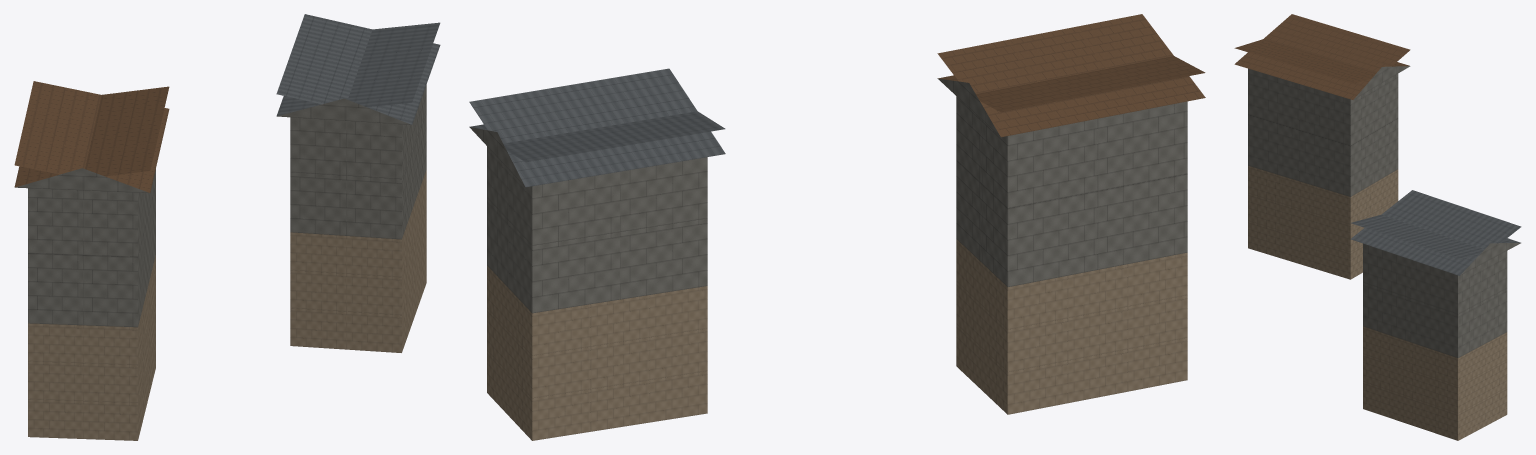
The model's file is bld_c-7_36_386.gltf.
The picture shows the model from 3 angles, left to right: view 1: azimuth 30°, elevation 25°; view 2: azimuth 150°, elevation 25°; view 3: azimuth 270°, elevation 25°; orthographic projection. The views are drawn at different scales.
Parts seen in each view (by area): view 1: bld_c-7_36_386; view 2: bld_c-7_36_386; view 3: bld_c-7_36_386.
Part boxes in pixels (x1=…): bld_c-7_36_386: x1=14, y1=14, x2=440, y2=440; bld_c-7_36_386: x1=469, y1=14, x2=1205, y2=440; bld_c-7_36_386: x1=1234, y1=14, x2=1521, y2=440.
Bounding box in the file's own units: 25.41 × 14.8 × 16.06.
Materials: 5 (5 with a texture image).
